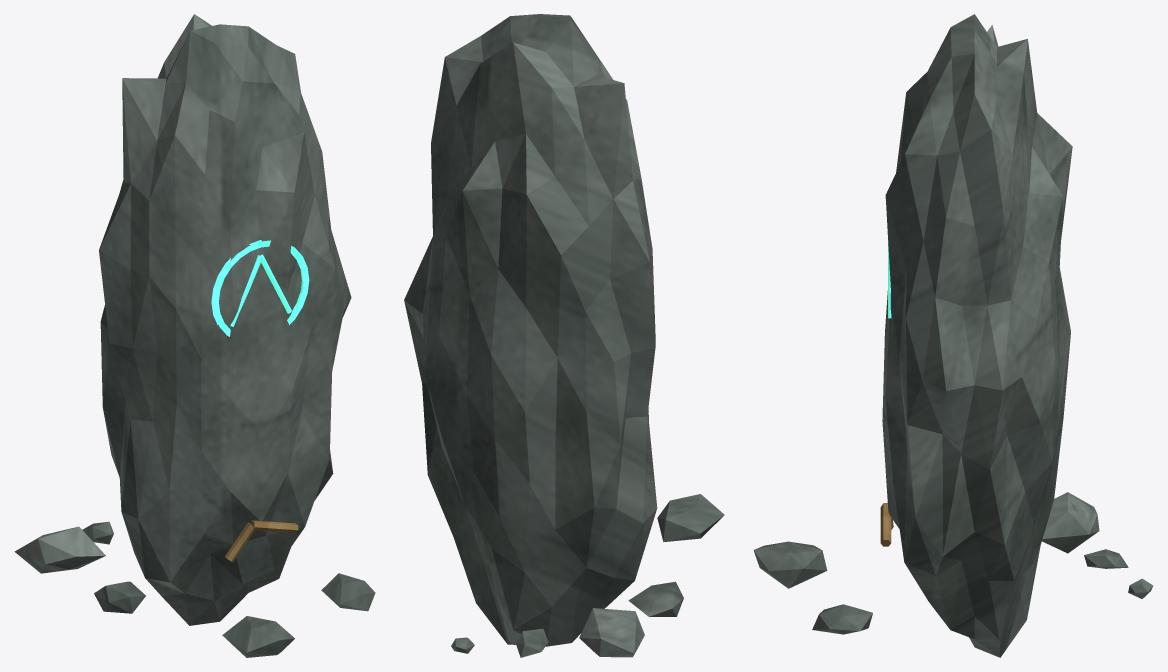
File: 0660_waystone_10.glb
The picture shows the model from 3 angles, left to right: view 1: azimuth 30°, elevation 25°; view 2: azimuth 150°, elevation 25°; view 3: azimuth 270°, elevation 25°; orthographic projection. The views are drawn at different scales.
Visible parts, largest first — view 1: stone, glow, brass; view 2: stone; view 3: stone.
Part boxes in pixels (x1,y1,x2,y2): stone: [14, 14, 375, 657]; glow: [211, 240, 309, 336]; brass: [225, 520, 298, 561]; stone: [404, 14, 724, 657]; stone: [753, 14, 1153, 657].
Bounding box in the file's own units: 1.21 × 2.62 × 1.53.
Materials: 3 (3 with a texture image).
